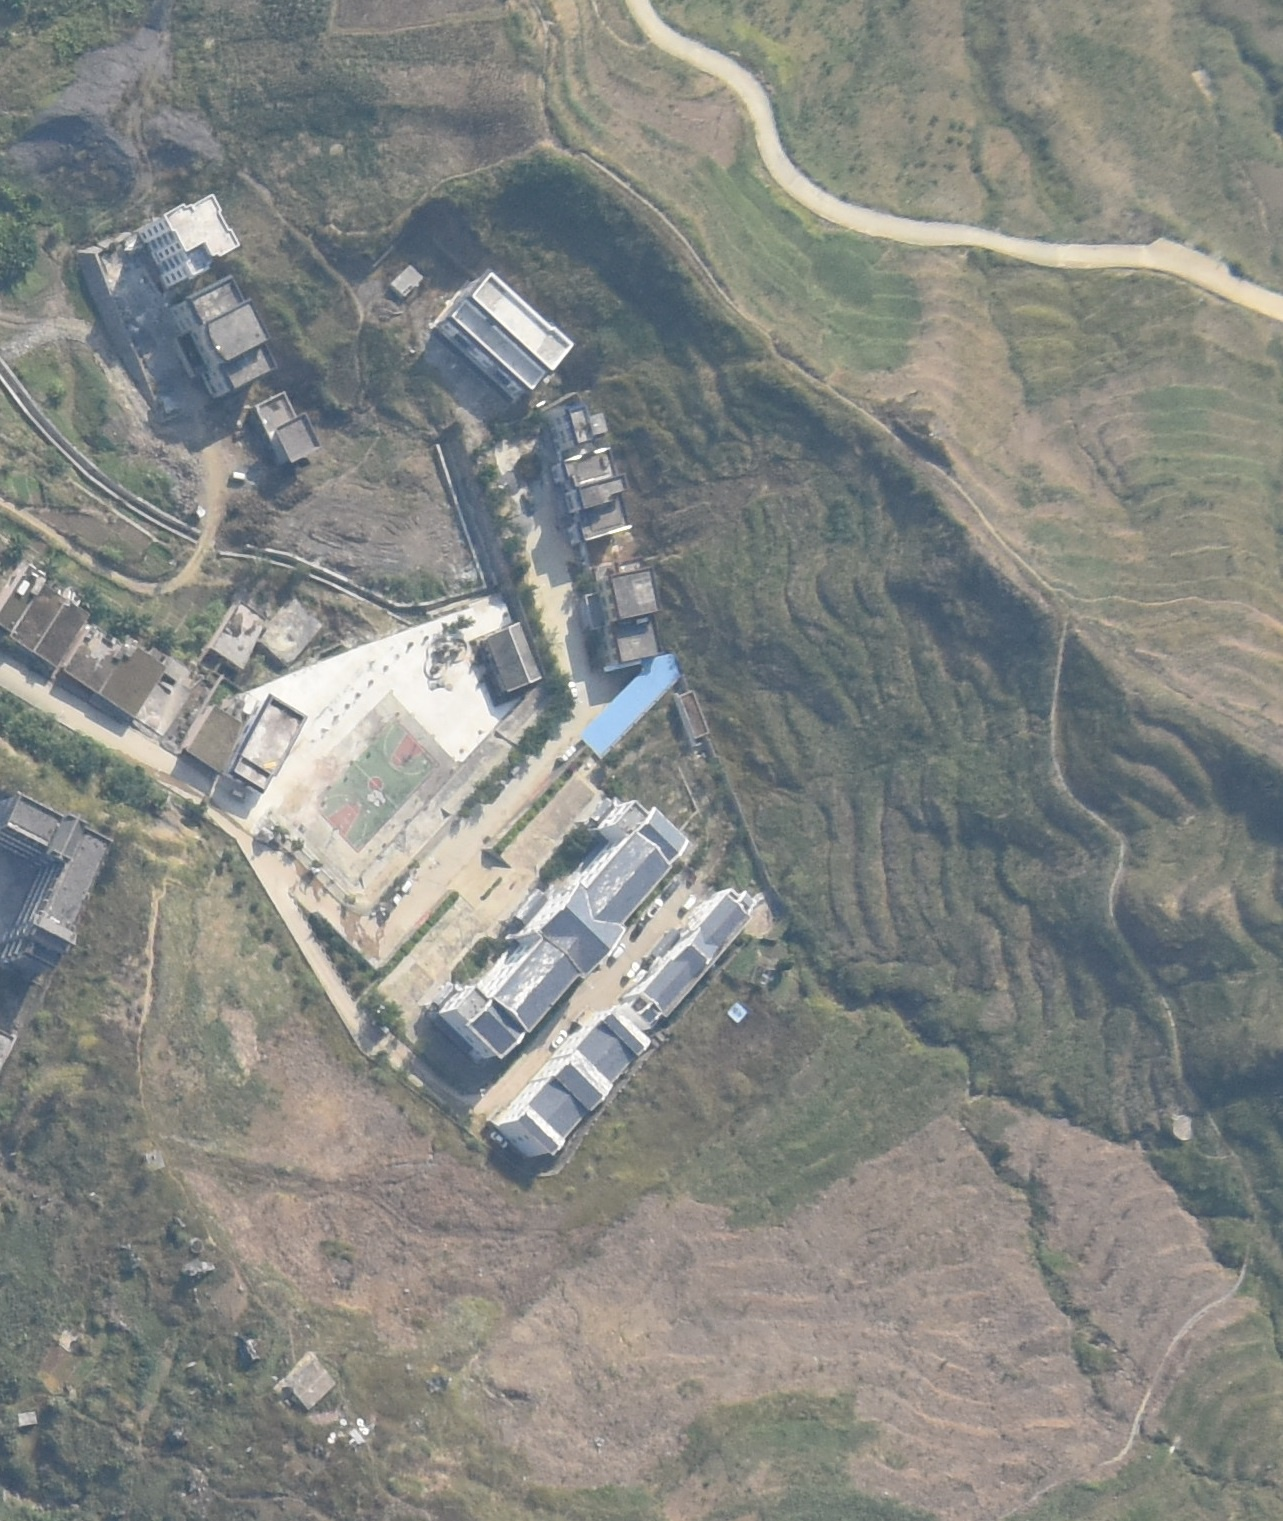building: (431, 802, 689, 1063), (491, 1008, 650, 1154), (1, 794, 112, 976), (437, 267, 573, 403), (626, 888, 750, 1025), (545, 389, 635, 538), (172, 277, 275, 398), (140, 191, 239, 286), (61, 627, 164, 717), (6, 566, 90, 669), (585, 559, 657, 669), (232, 697, 307, 792), (185, 681, 249, 775), (255, 389, 322, 465), (261, 593, 325, 667), (481, 620, 538, 692), (276, 1353, 336, 1415), (213, 599, 258, 675), (675, 690, 710, 743), (388, 262, 423, 297), (727, 1000, 747, 1025), (17, 1410, 38, 1427)
prefabricated-house: (582, 654, 680, 760)
vehicle: (629, 919, 647, 944), (622, 960, 641, 983), (647, 896, 664, 920), (608, 943, 626, 964), (550, 1027, 566, 1049), (662, 878, 680, 897), (566, 678, 580, 703), (680, 895, 698, 913), (489, 1132, 509, 1147)
well: (1170, 1112, 1196, 1142)
